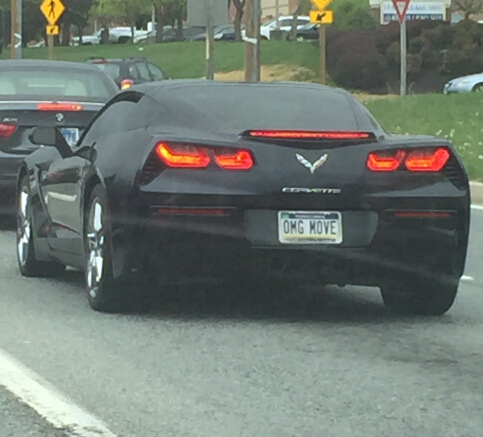license plate: (274, 206, 346, 249)
